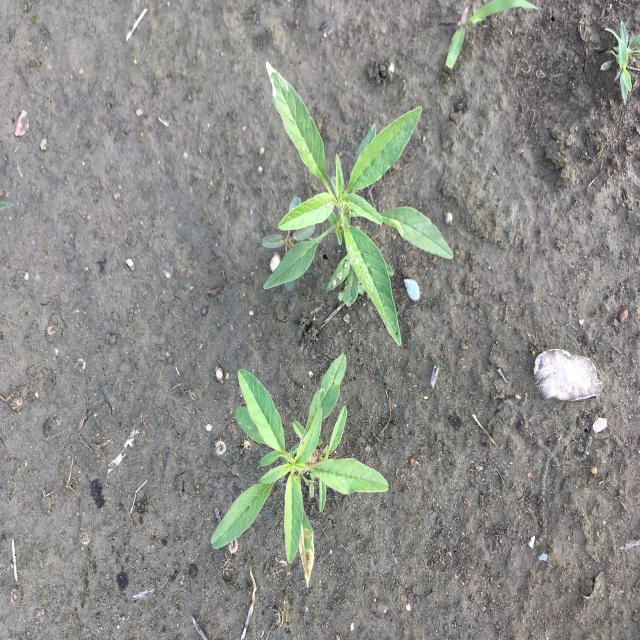Waterhemp: (262, 60, 456, 349), (208, 351, 390, 589)
